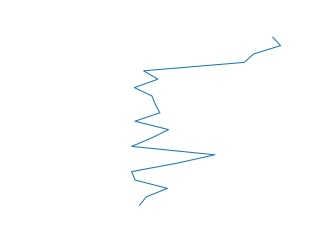crevasseRiverChannelBar: (128, 32, 287, 208)
